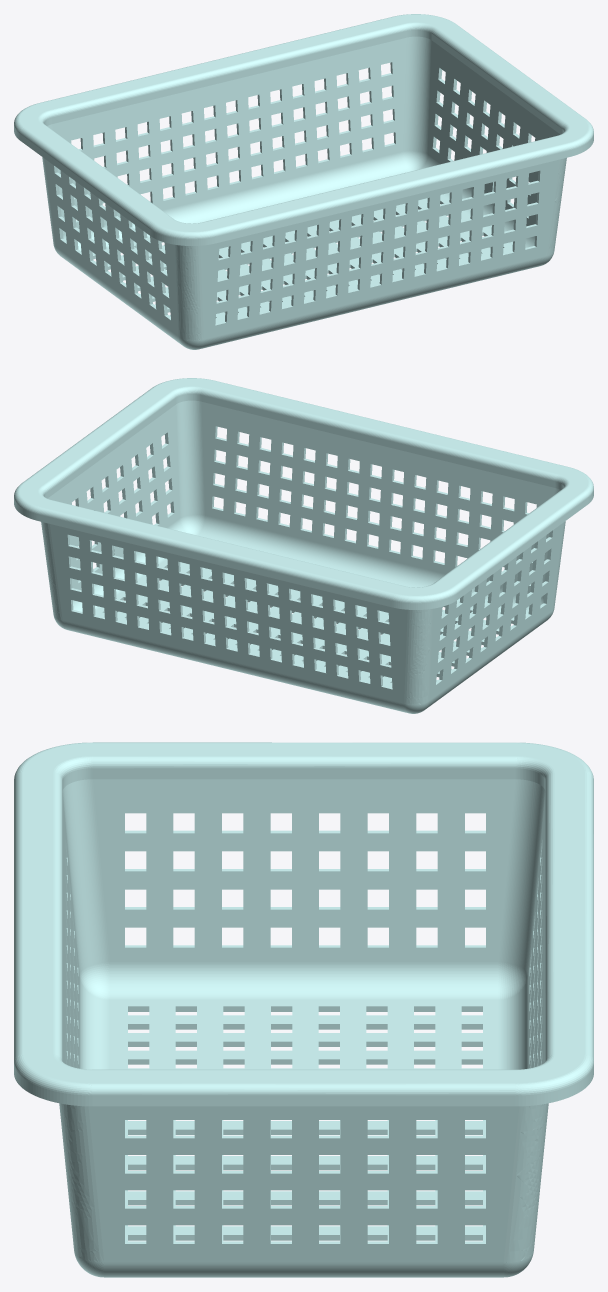
3 renders of one model, top to bottom at view 1: azimuth 30°, elevation 25°; view 2: azimuth 150°, elevation 25°; view 3: azimuth 270°, elevation 25°, orthographic. The views are drawn at different scales.
Visible parts, largest first — view 1: Node4, Node2, Node3, Node1; view 2: Node4, Node2, Node3, Node1; view 3: Node4, Node3, Node2, Node1.
Part boxes in pixels (x1,y1,x2,y2): Node4: [14, 14, 593, 323]; Node2: [42, 157, 566, 349]; Node3: [53, 37, 559, 307]; Node1: [74, 62, 553, 325]; Node4: [14, 378, 593, 687]; Node2: [41, 496, 565, 713]; Node3: [48, 401, 554, 618]; Node1: [54, 426, 532, 712]; Node4: [14, 742, 593, 1241]; Node3: [62, 779, 545, 1243]; Node2: [59, 830, 548, 1262]; Node1: [65, 840, 542, 1277].
Bounding box in the file's own units: 271 × 82 × 191.
